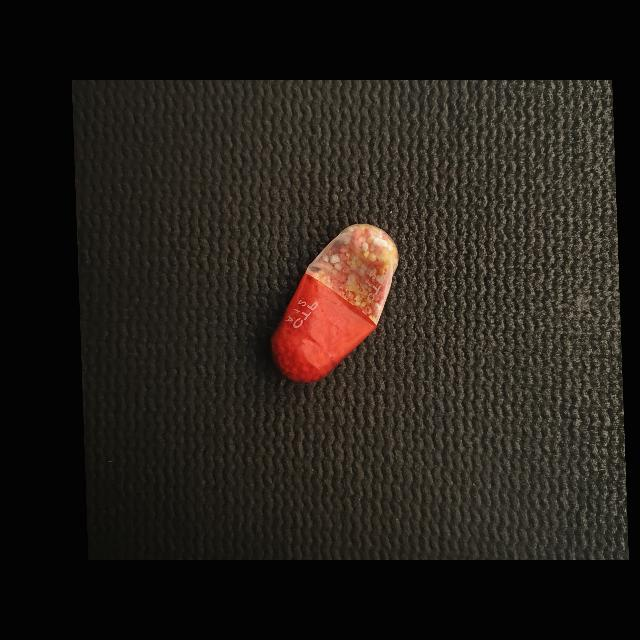Defective Capsule: (271, 223, 399, 383)
